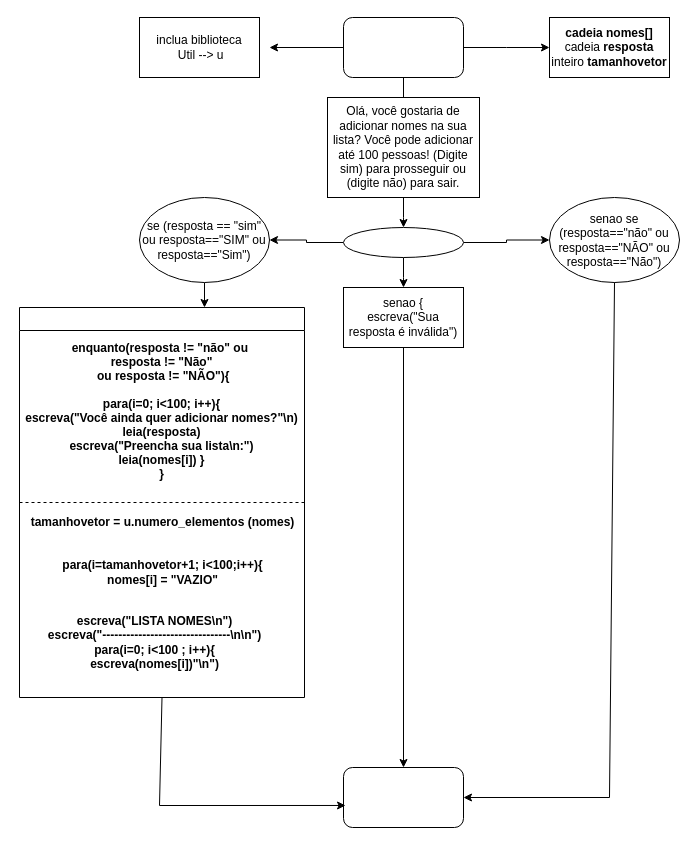
Some shapes in this 697 by 845 pixel diagram are drawn without their labels. The centre of each missing label's shape, as x and y in pixels:
FIM: point 403,797
INICIO: point 403,47
resposta <-- entrada: point 403,242
